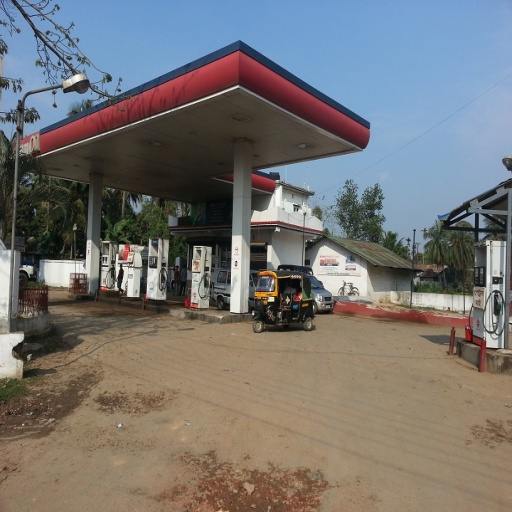roof: (1, 41, 368, 200)
